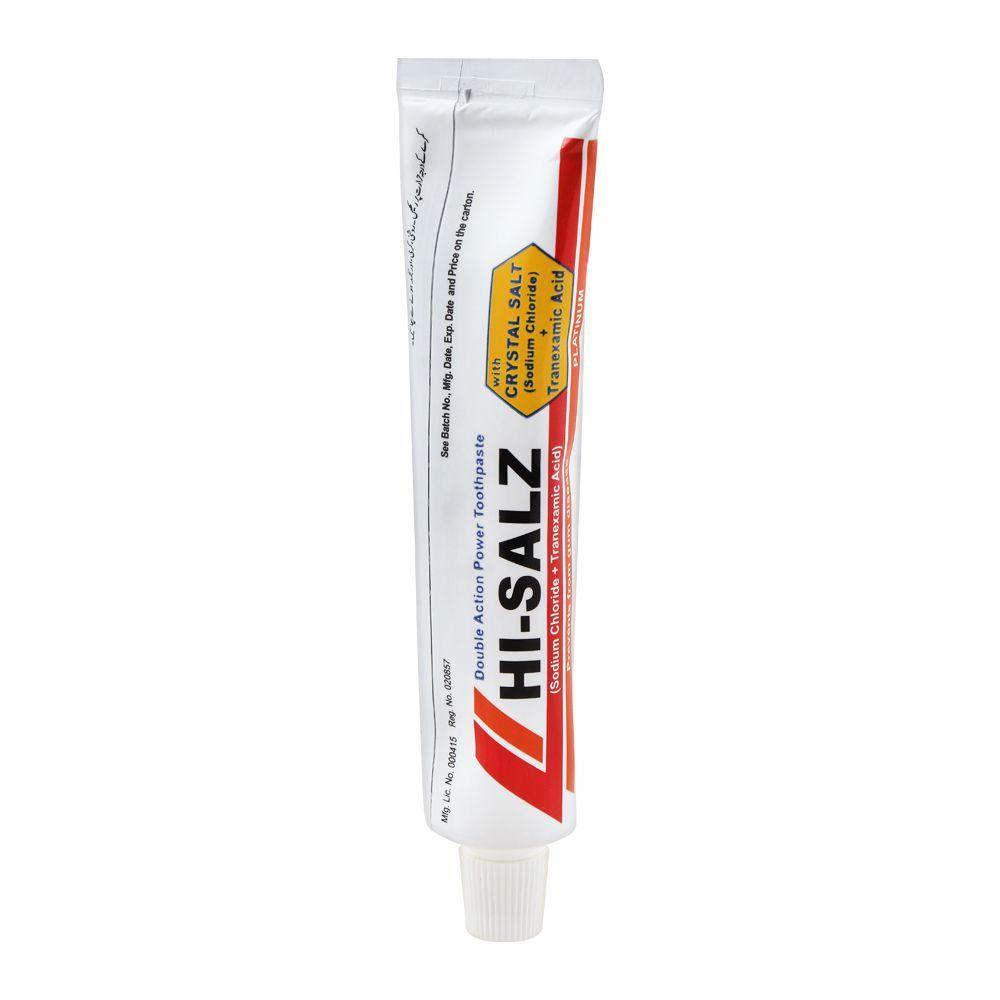toothpaste: (366, 52, 648, 954)
